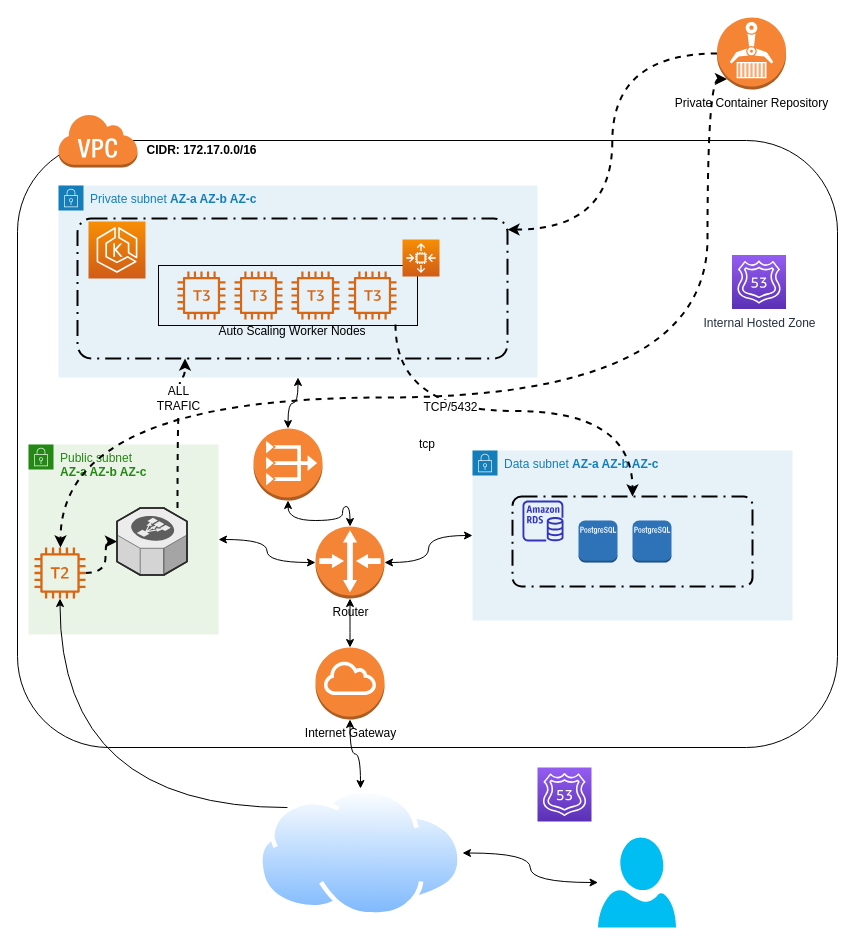
Some shapes in this 855 by 945 pixel diagram are drawn without their labels. Here are the shapes that lost their labels. From the top down, the centre of each, then its label:
At point 117,249: "EKS Cluster".
At point 287,464: "NAT Gateway".
At point 151,541: "ELB".
At point 59,572: "Bastion".
At point 564,794: "Public Hosted Zone".
